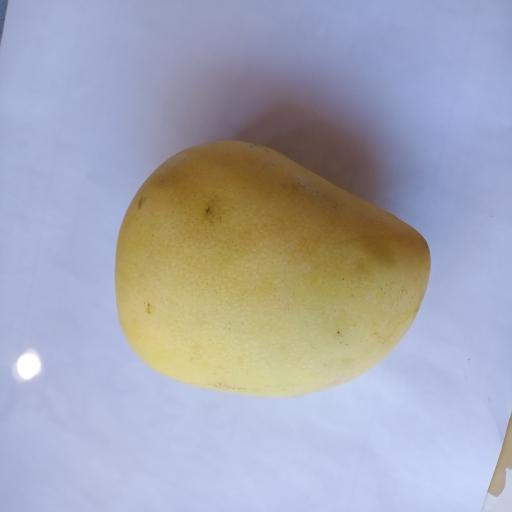mango-ripe: (85, 116, 446, 422)
